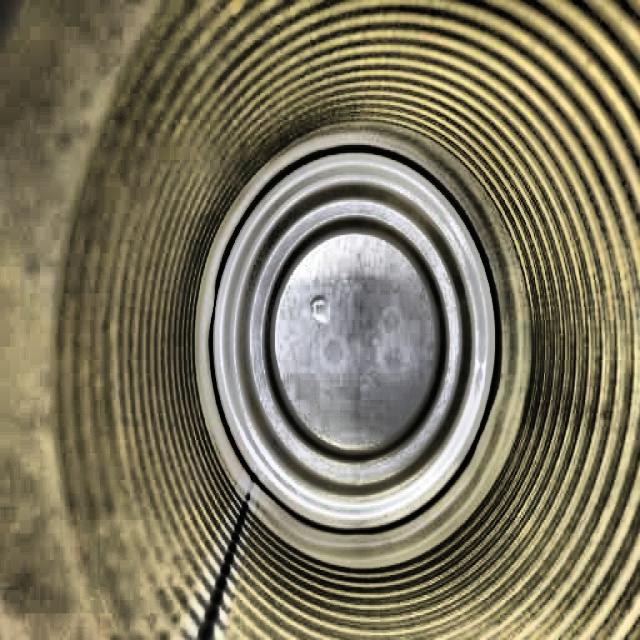metal: (30, 0, 620, 640)
